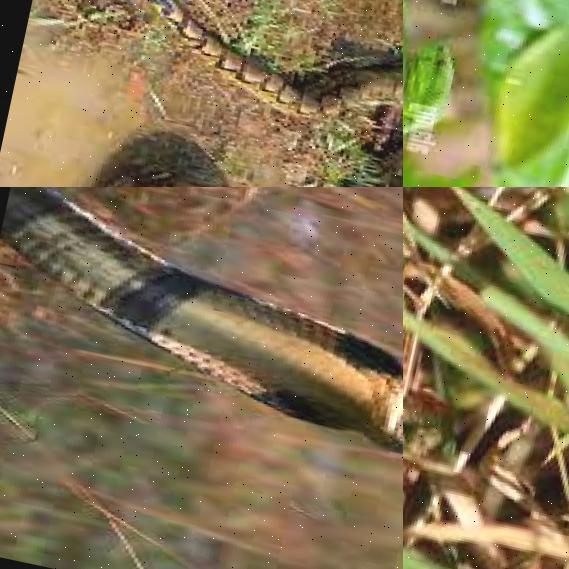snake: (0, 187, 403, 492), (0, 0, 403, 187), (403, 187, 488, 569), (403, 0, 523, 187)
